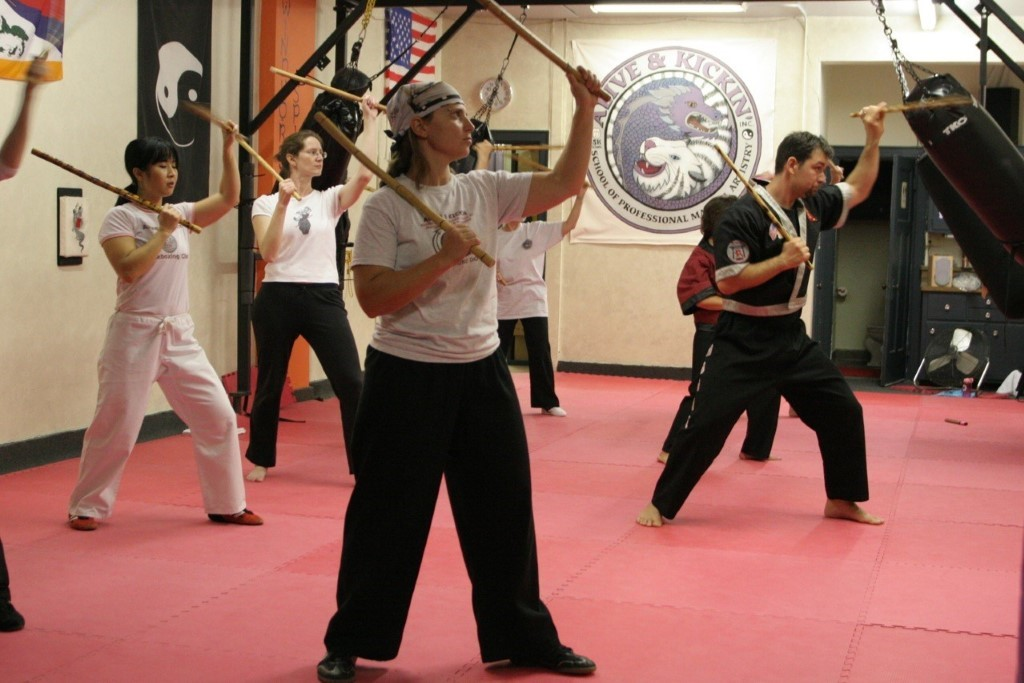baston_e: (321, 113, 482, 266), (37, 148, 195, 231), (712, 148, 811, 261), (494, 0, 603, 99), (273, 69, 394, 113), (237, 135, 298, 198), (510, 151, 591, 187), (855, 97, 967, 116), (489, 142, 565, 148)
baston_v: (959, 92, 978, 109), (483, 255, 499, 272), (309, 106, 326, 121), (266, 62, 276, 76), (602, 94, 615, 104), (807, 261, 817, 273), (711, 140, 721, 150), (468, 143, 479, 152), (587, 180, 596, 190), (848, 110, 856, 121), (296, 194, 305, 203), (29, 145, 37, 155), (195, 226, 204, 234), (500, 151, 510, 158)
